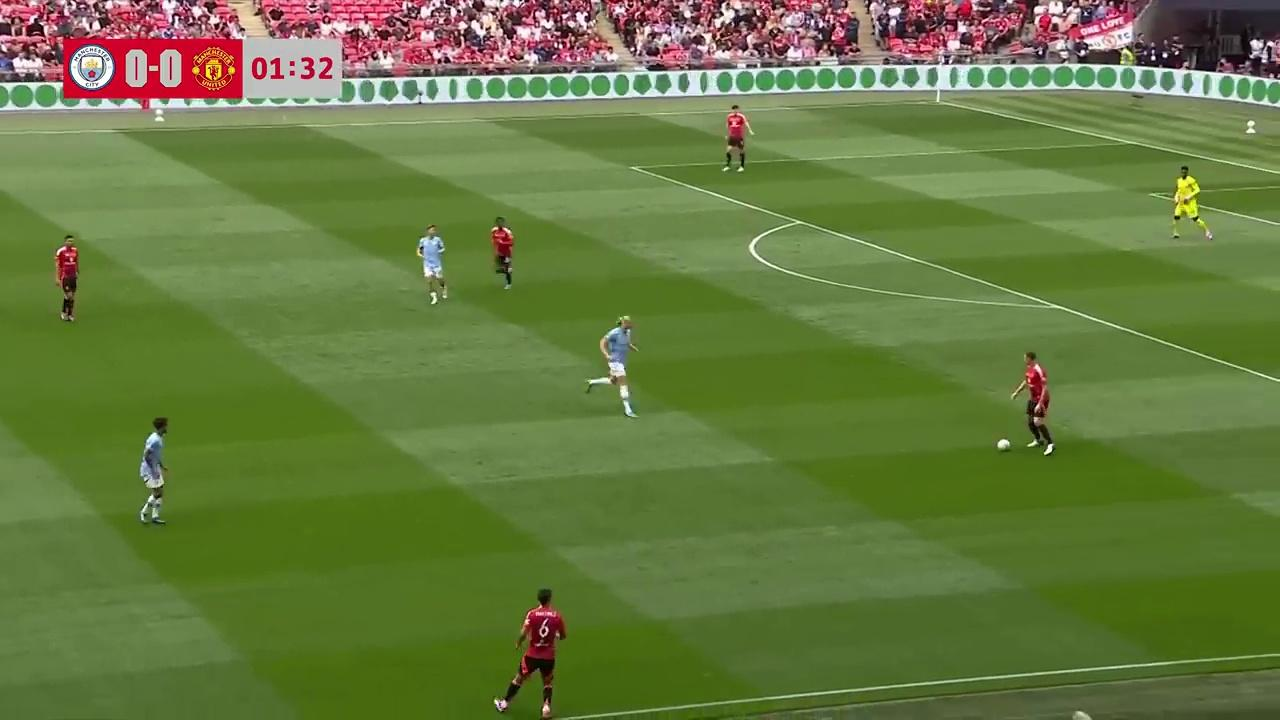ball: (995, 436, 1011, 453)
player: (499, 589, 566, 715), (590, 317, 638, 419), (1009, 351, 1055, 455), (138, 417, 169, 525), (1169, 168, 1212, 241), (416, 224, 448, 304), (54, 234, 79, 322), (722, 112, 752, 172), (490, 216, 514, 289)
